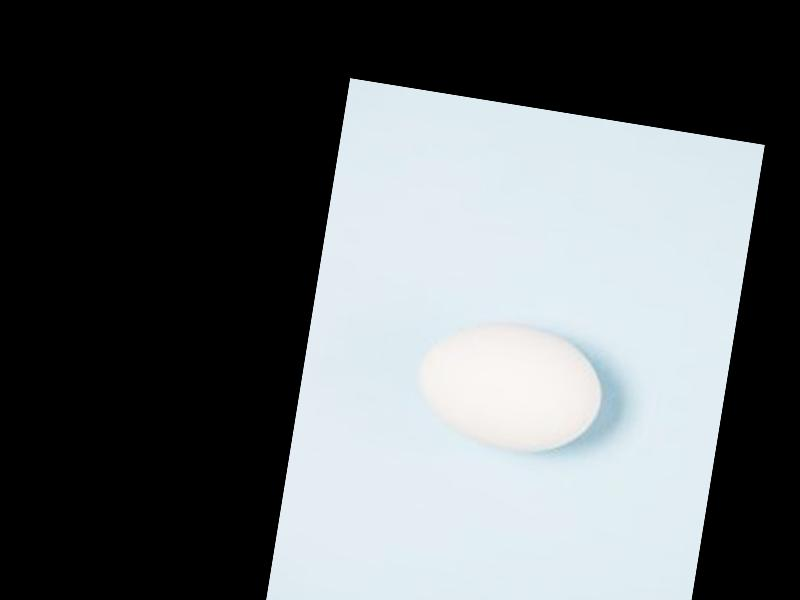Eggs: (407, 309, 610, 461)
